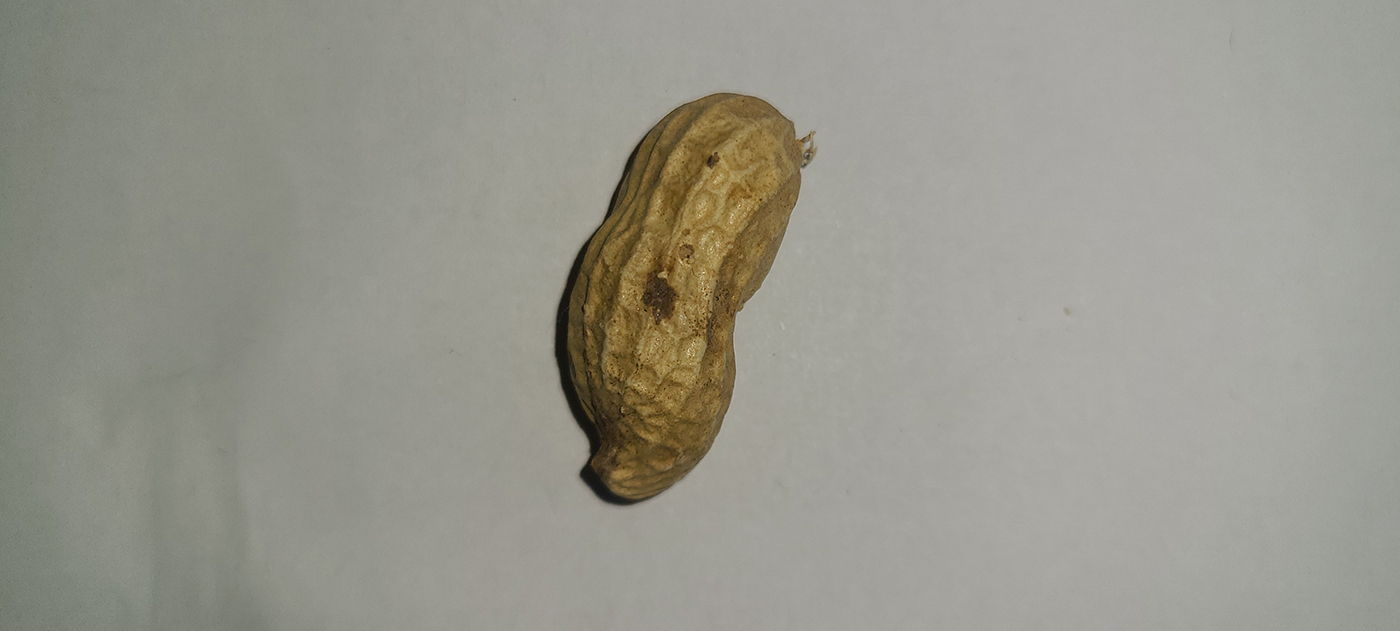h: (560, 94, 806, 504)
